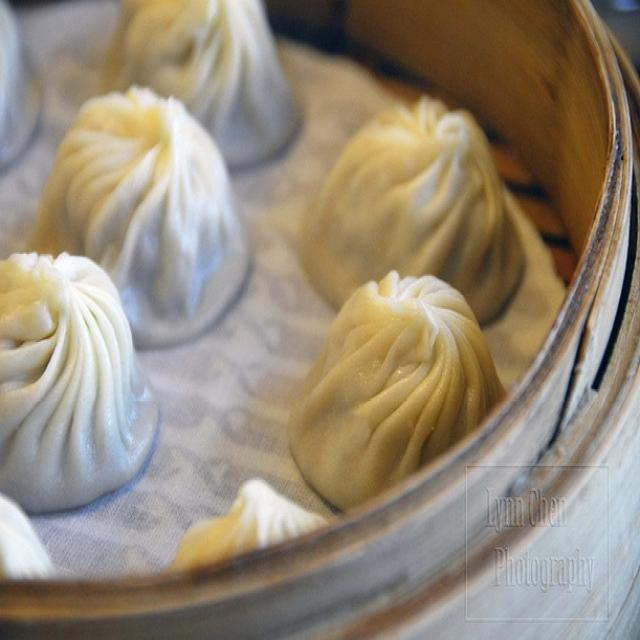带馅早点: (7, 9, 610, 634)
